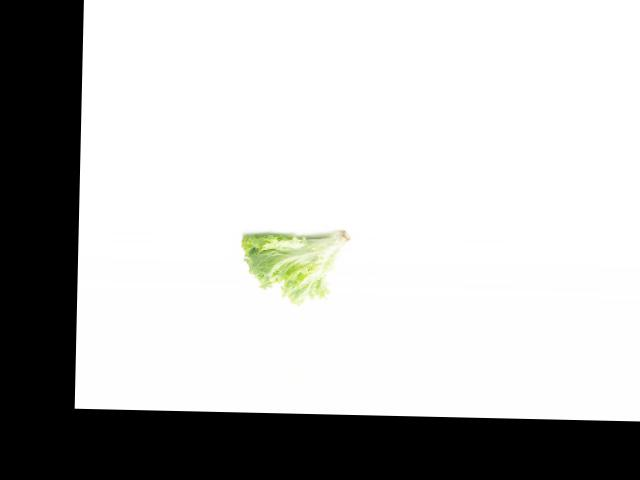lettuce: (240, 226, 353, 307)
